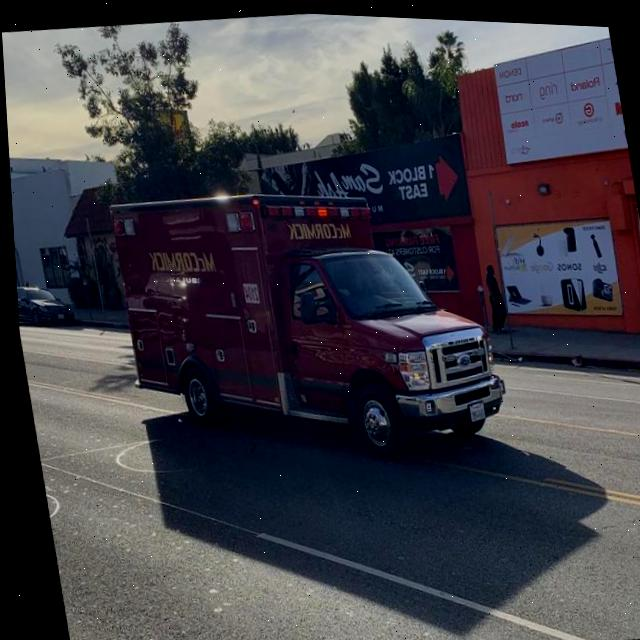emergency: (245, 164, 514, 473)
